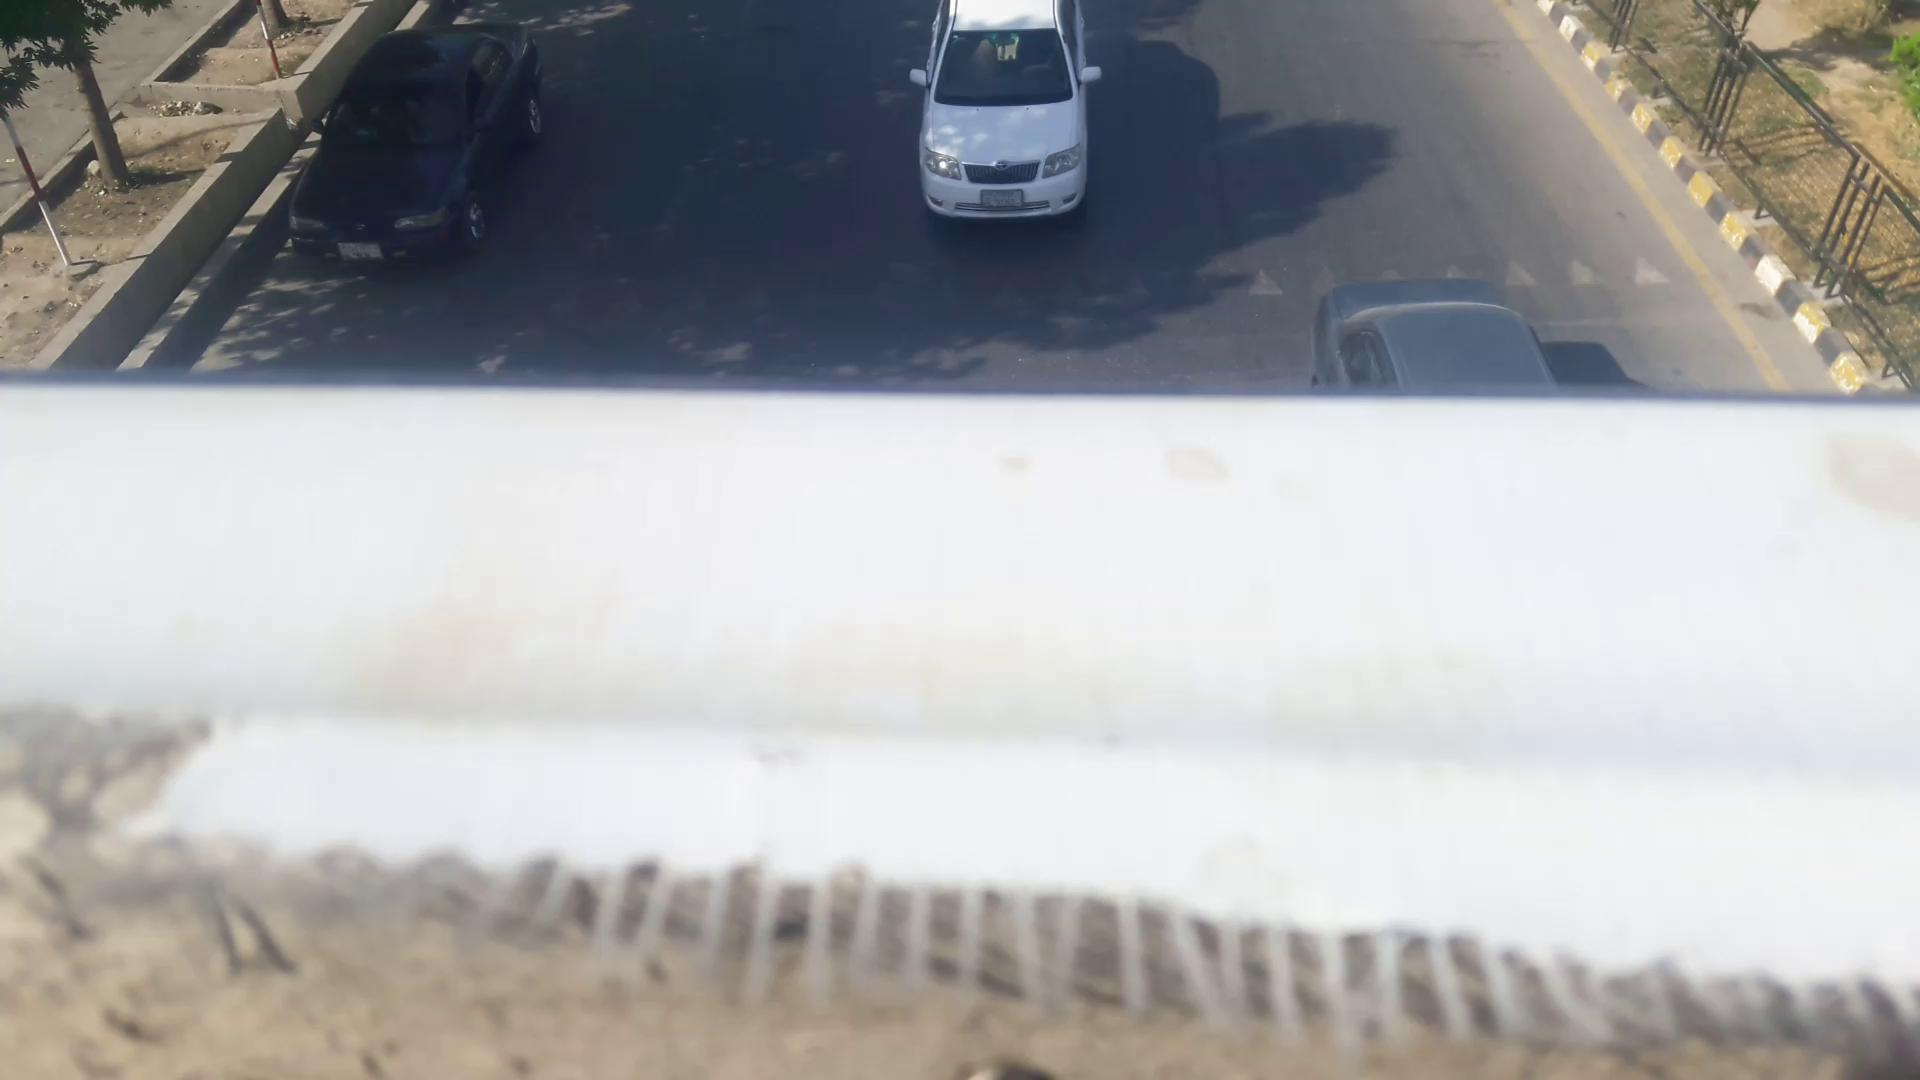car: (273, 24, 554, 240), (910, 4, 1113, 223), (1309, 257, 1527, 386)
